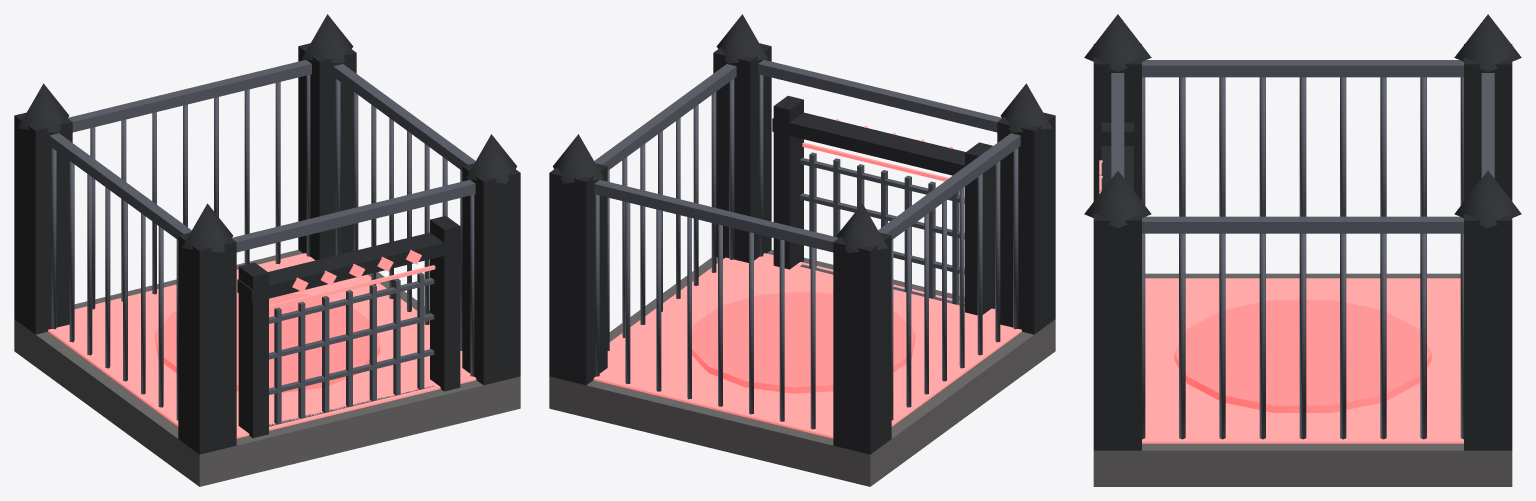
Rendered from MonsterHub_EMBER_Pit.glb.
3 views of the same model, side by side, from view 1: azimuth 30°, elevation 25°; view 2: azimuth 150°, elevation 25°; view 3: azimuth 270°, elevation 25° (orthographic). The views are drawn at different scales.
Visible parts, largest first — view 1: MonsterHub_EMBER_Pit, MonsterHub_EMBER_Pit_Gate; view 2: MonsterHub_EMBER_Pit, MonsterHub_EMBER_Pit_Gate; view 3: MonsterHub_EMBER_Pit.
Boxes of the visible parts, x1,y1,x2,y2 form: MonsterHub_EMBER_Pit: [14, 14, 520, 486]; MonsterHub_EMBER_Pit_Gate: [269, 265, 435, 426]; MonsterHub_EMBER_Pit: [549, 14, 1055, 486]; MonsterHub_EMBER_Pit_Gate: [799, 142, 964, 306]; MonsterHub_EMBER_Pit: [1084, 14, 1521, 486].
Size of the model in its own units: 5.44 by 4.2 by 5.44.
